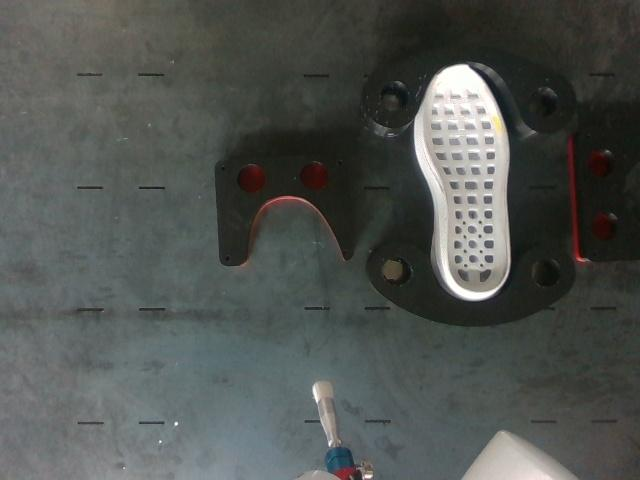shoes: (422, 64, 509, 293)
